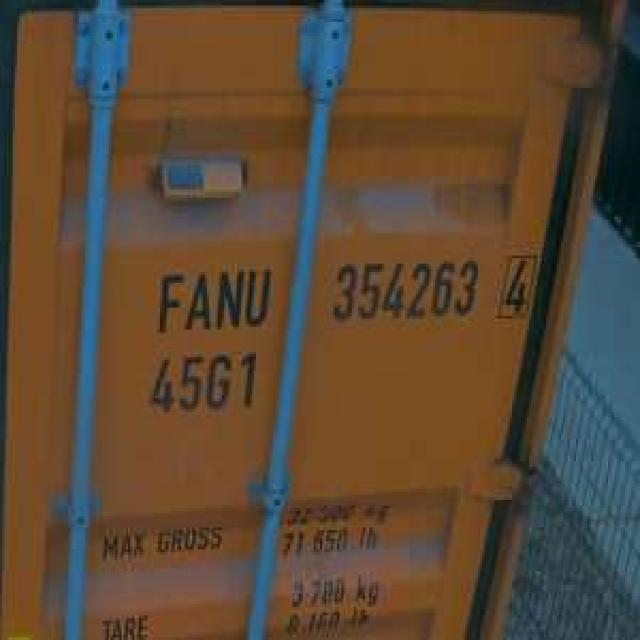dv: (493, 242, 540, 321)
owner: (147, 258, 273, 335)
serial: (326, 250, 480, 324)
size: (143, 346, 262, 418)
